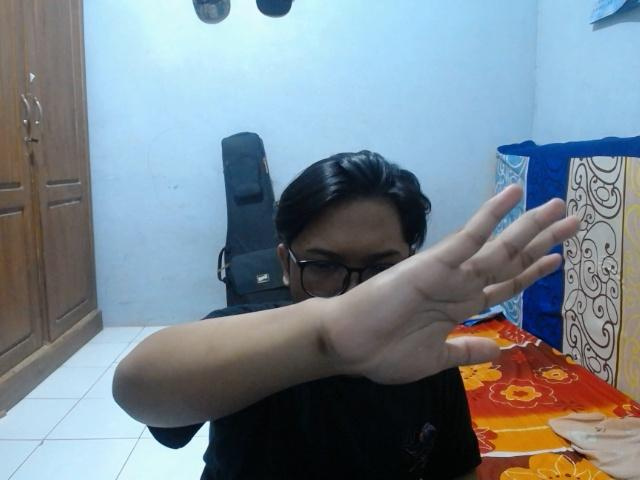Release: (313, 177, 583, 390)
